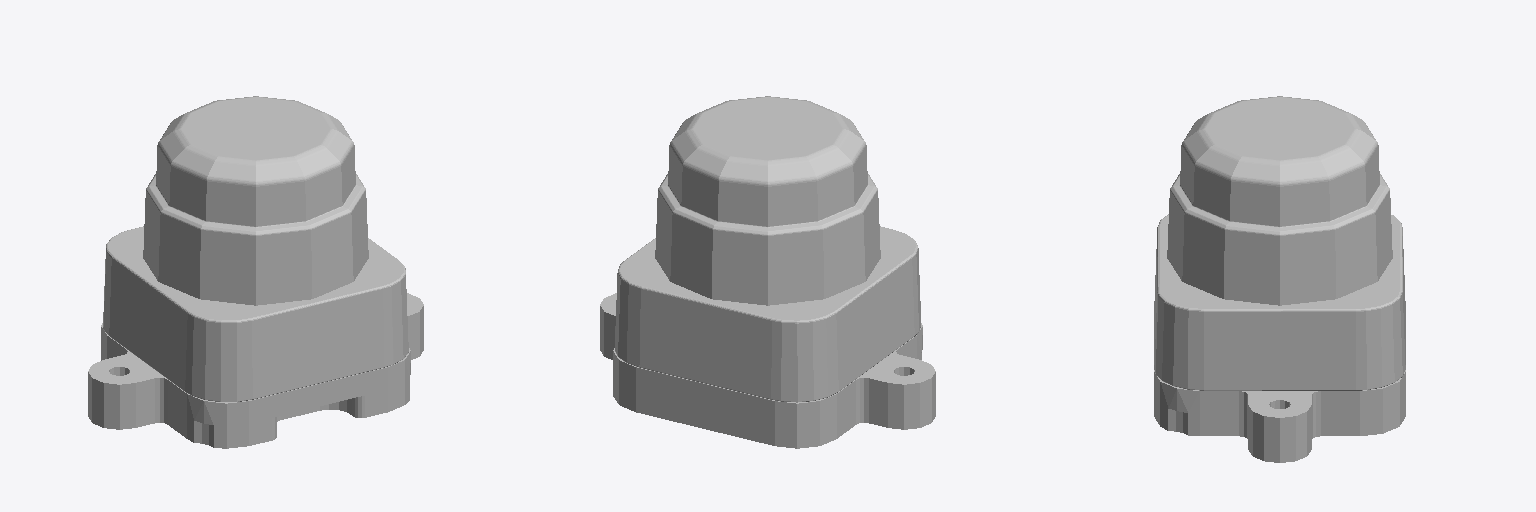
File: lidar.obj
The picture shows the model from 3 angles: view 1: azimuth 30°, elevation 25°; view 2: azimuth 150°, elevation 25°; view 3: azimuth 270°, elevation 25°; orthographic projection.
Visible parts, largest first — view 1: mesh14, mesh31, mesh8, mesh0, mesh30, mesh29, mesh15, mesh66, mesh4, mesh63, mesh51, mesh25 (+13 smaller); view 2: mesh14, mesh23, mesh8, mesh0, mesh44, mesh30, mesh27, mesh15, mesh4, mesh43, mesh51, mesh19 (+14 smaller); view 3: mesh14, mesh21, mesh8, mesh0, mesh15, mesh19, mesh25, mesh4, mesh48, mesh45, mesh42, mesh46 (+9 smaller).
Part boxes in pixels (x1,y1,x2,y2): mesh14: (143,191,368,305); mesh31: (252,289,384,398); mesh8: (156,145,355,226); mesh0: (182,97,329,159); mesh30: (109,259,187,390); mesh29: (185,314,252,401); mesh15: (108,227,403,319); mesh66: (249,367,387,445); mesh4: (160,114,351,180); mesh63: (187,394,248,448); mesh51: (88,372,135,429); mesh25: (383,275,408,366); mesh14: (655,191,880,305); mesh23: (639,289,771,398); mesh8: (668,145,867,226); mesh0: (694,97,841,159); mesh44: (636,367,774,445); mesh30: (836,259,914,390); mesh27: (771,314,838,401); mesh15: (620,227,915,320); mesh4: (672,114,863,180); mesh43: (775,394,836,448); mesh51: (888,372,935,429); mesh19: (615,273,640,366); mesh14: (1167,191,1392,305); mesh21: (1204,312,1355,389); mesh8: (1180,145,1379,226); mesh0: (1206,97,1353,159); mesh15: (1160,215,1399,308); mesh19: (1356,293,1405,389); mesh25: (1154,293,1203,389); mesh4: (1184,114,1375,180); mesh48: (1248,405,1311,462); mesh45: (1360,372,1405,435); mesh42: (1200,391,1238,435); mesh46: (1321,391,1359,435).
Size of the model in its own units: 0.0835 by 0.062 by 0.0555.